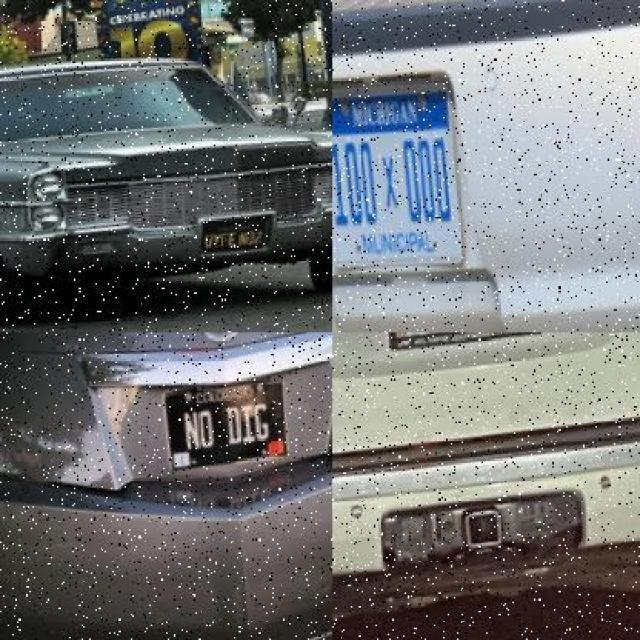LicensePlate: (331, 80, 466, 268), (162, 373, 290, 472), (204, 215, 271, 251)
